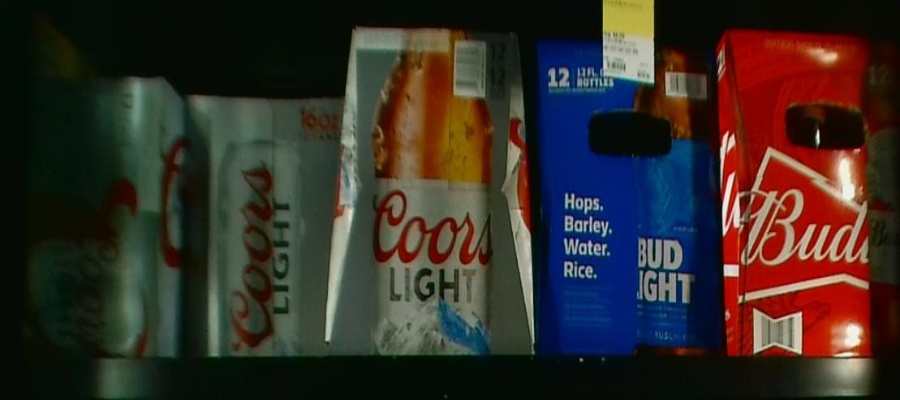bottle: (338, 28, 534, 355), (533, 36, 728, 357), (725, 31, 900, 352), (11, 76, 186, 354), (188, 92, 333, 359)
